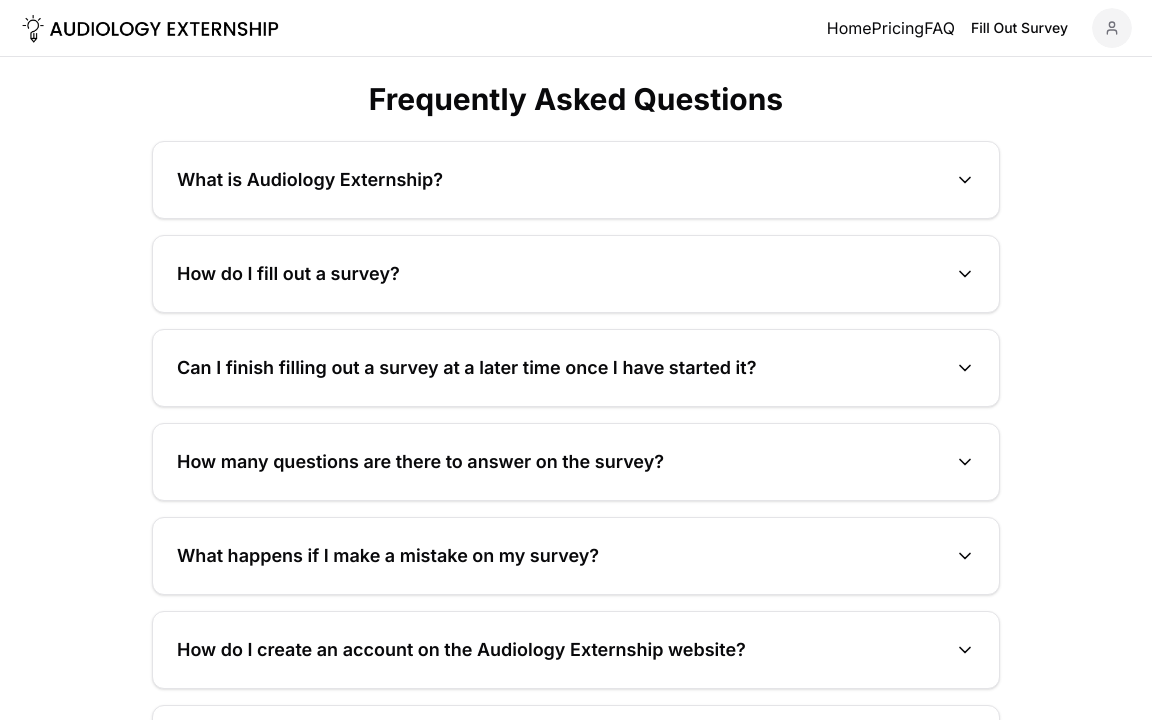
Test: FAQPage › only one FAQ is expanded at a time
Click the heading "What is Audiology Externship?" at point(310, 180), box top-left (177, 166), bottom-right (443, 194)
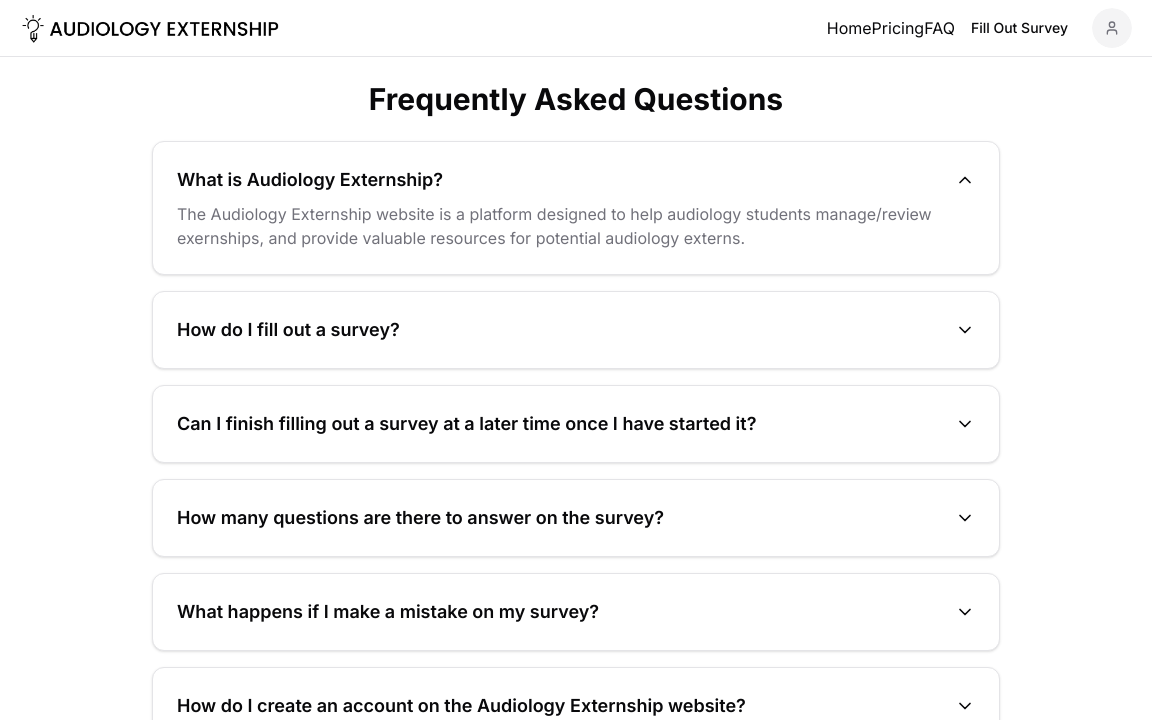
Expected: the text "platform designed to help audiology" is shown, top-left (177, 204), bottom-right (932, 248)
Click the heading "How do I fill out a survey?" at point(288, 330), box top-left (177, 316), bottom-right (400, 344)
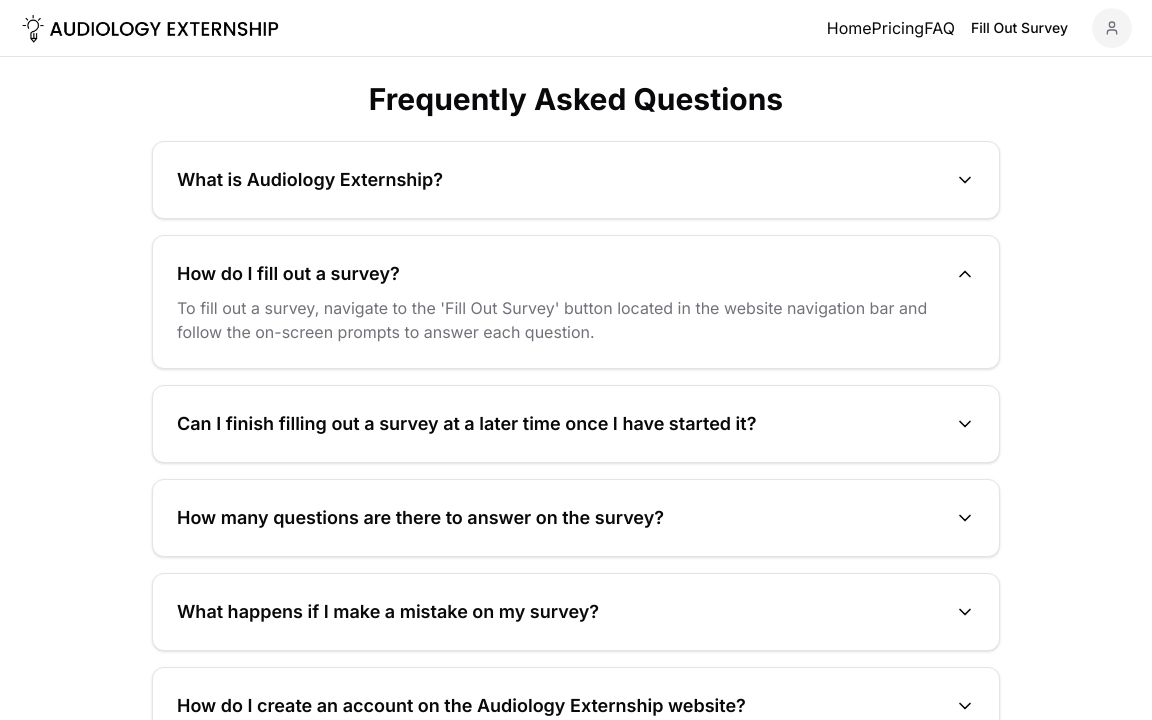
Expected: the text "platform designed to help audiology" is gone
Expected: the text "navigate to the 'Fill Out Survey' button" is shown, top-left (177, 298), bottom-right (927, 342)
